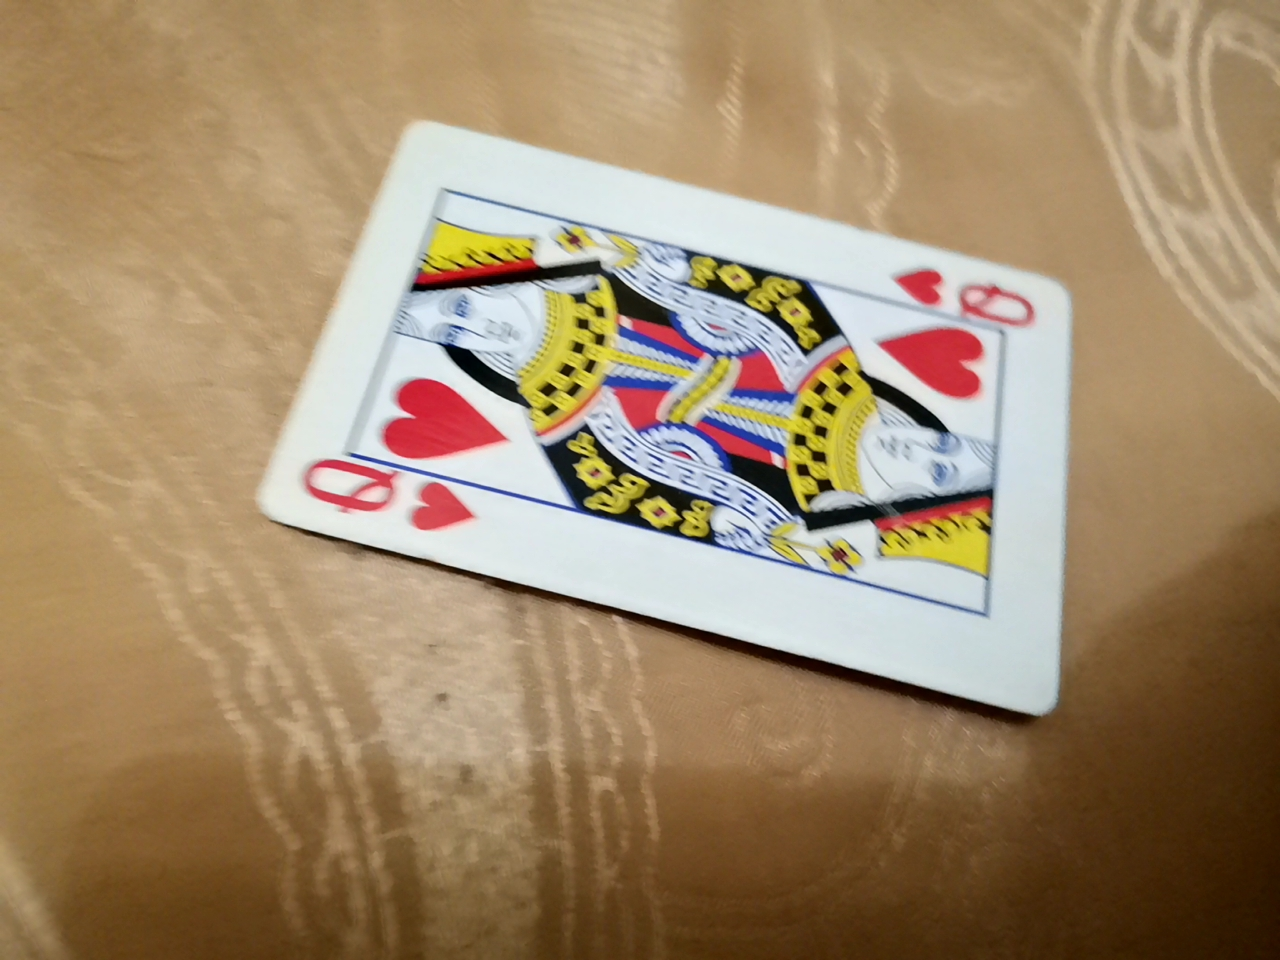hx q: (222, 129, 1103, 734)
